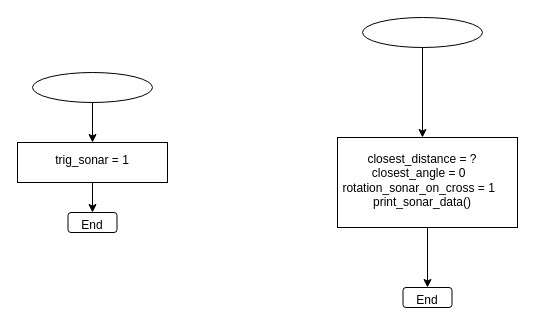
Some shapes in this 535 by 330 pixel diagram are drawn without their labels. Here are the shapes that lost their labels. From the top down, the centre of each, then its label:
(x=422, y=32): rotation_sonar()
(x=92, y=87): distance_sonar()
